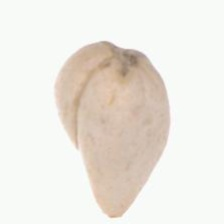L1: (109, 41, 140, 71)
L2: (55, 39, 171, 217)
